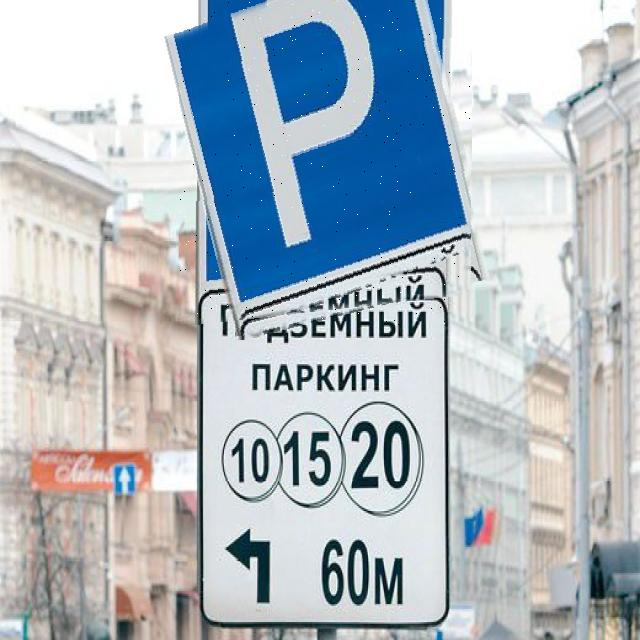parking: (179, 0, 473, 327)
